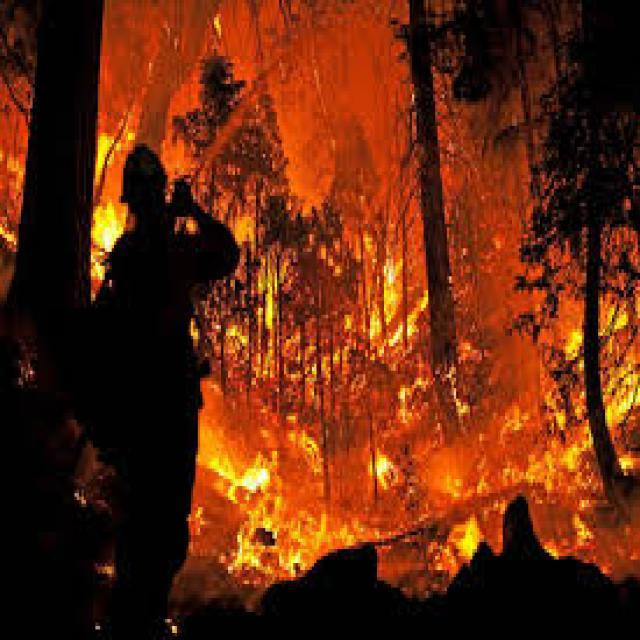Fire: (186, 0, 640, 640), (88, 1, 195, 294), (0, 0, 40, 303), (62, 412, 120, 518), (15, 333, 47, 397), (166, 567, 187, 640), (93, 554, 123, 588), (94, 621, 100, 636)
